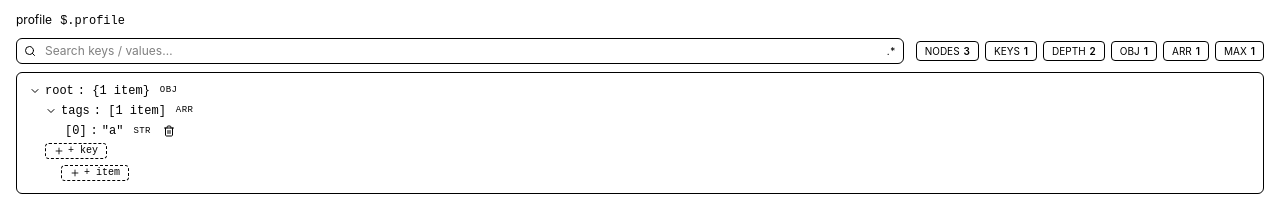
Test: DocumentTreePanel › AC-344-C-04: Esc closes the input without committing
Click the button with test id "tree-add-item-tags". click: (95, 173)
box: [61,165,129,181]
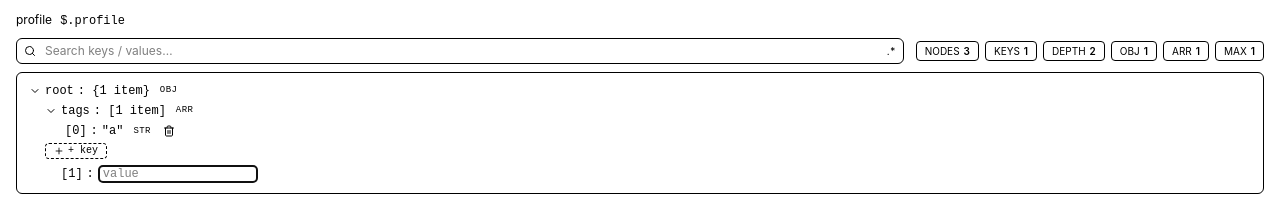
Type "discard" into the field with test id "tree-add-item-input-tags". click: (178, 174)
box: [98,165,258,183]
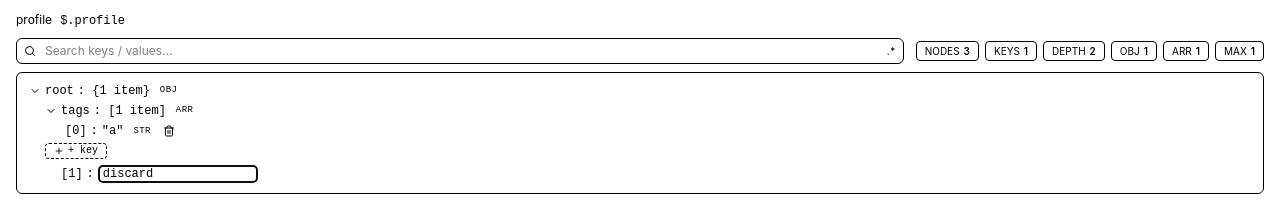
Press Escape
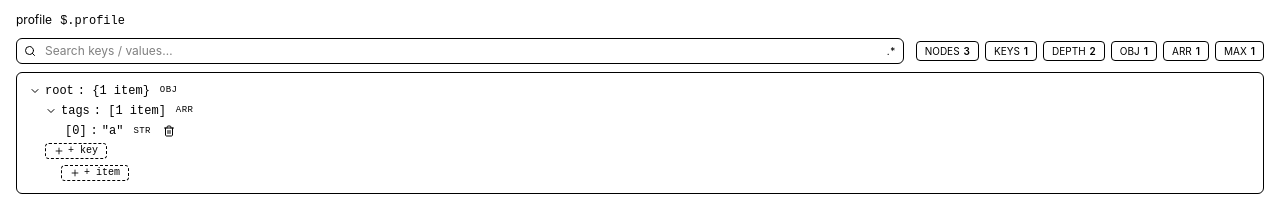
Expected: the field with test id "tree-add-item-input-tags" is gone
Expected: the button with test id "tree-add-item-tags" is shown, [61,165,129,181]
